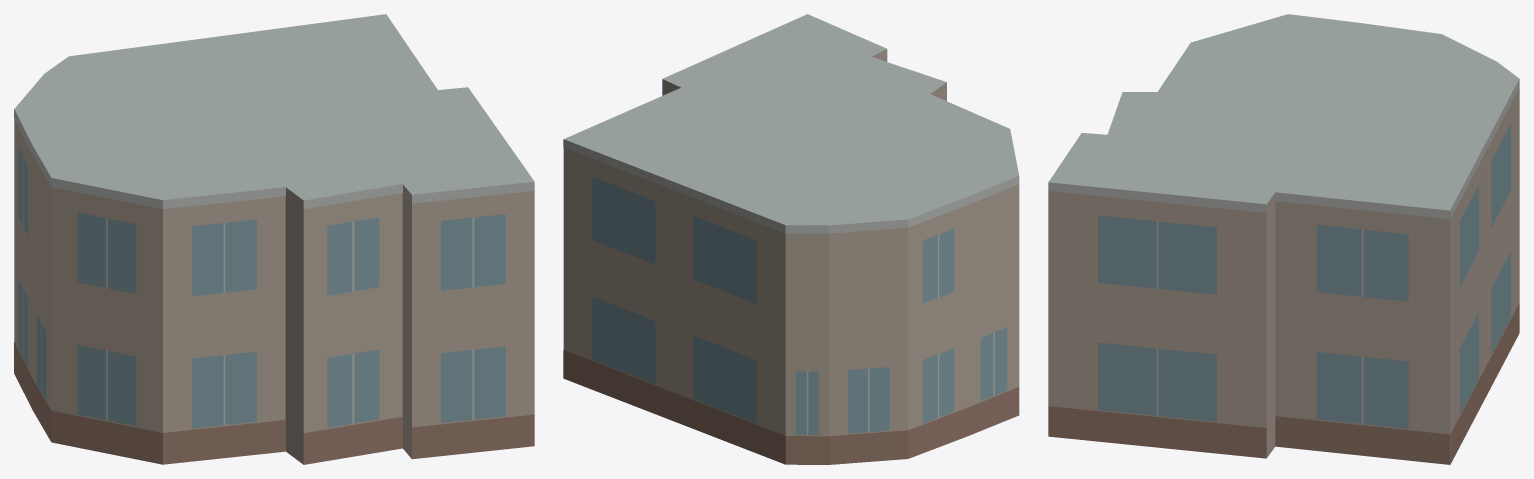
Rendered from survey-upis-32519692.glb.
3 views of the same model, side by side, from view 1: azimuth 30°, elevation 25°; view 2: azimuth 150°, elevation 25°; view 3: azimuth 270°, elevation 25° (orthographic). The views are drawn at different scales.
Visible parts, largest first — view 1: survey-upis-32519692.tmp; view 2: survey-upis-32519692.tmp; view 3: survey-upis-32519692.tmp.
Part boxes in pixels (x1,y1,x2,y2): survey-upis-32519692.tmp: (14,14,534,464); survey-upis-32519692.tmp: (563,14,1019,464); survey-upis-32519692.tmp: (1048,14,1519,464).
Size of the model in its own units: 11.79 by 7.1 by 11.94.
